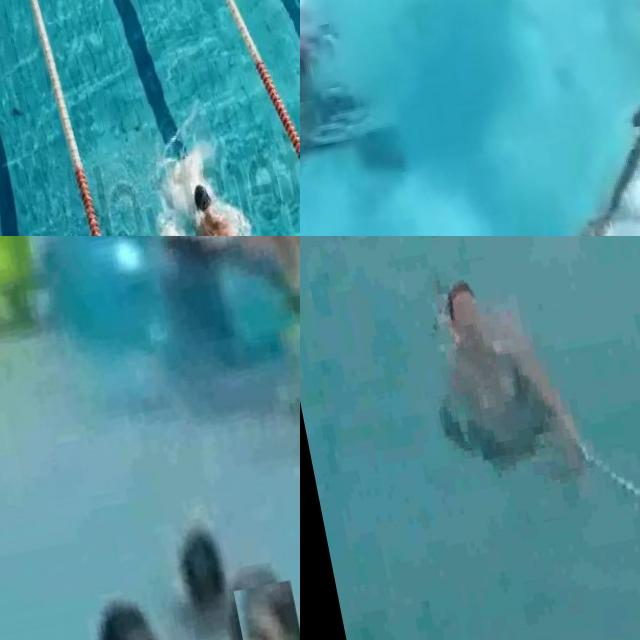drowning: (398, 236, 616, 581), (300, 0, 377, 218), (148, 506, 232, 620)
swimming: (136, 236, 300, 324), (170, 145, 299, 236)
